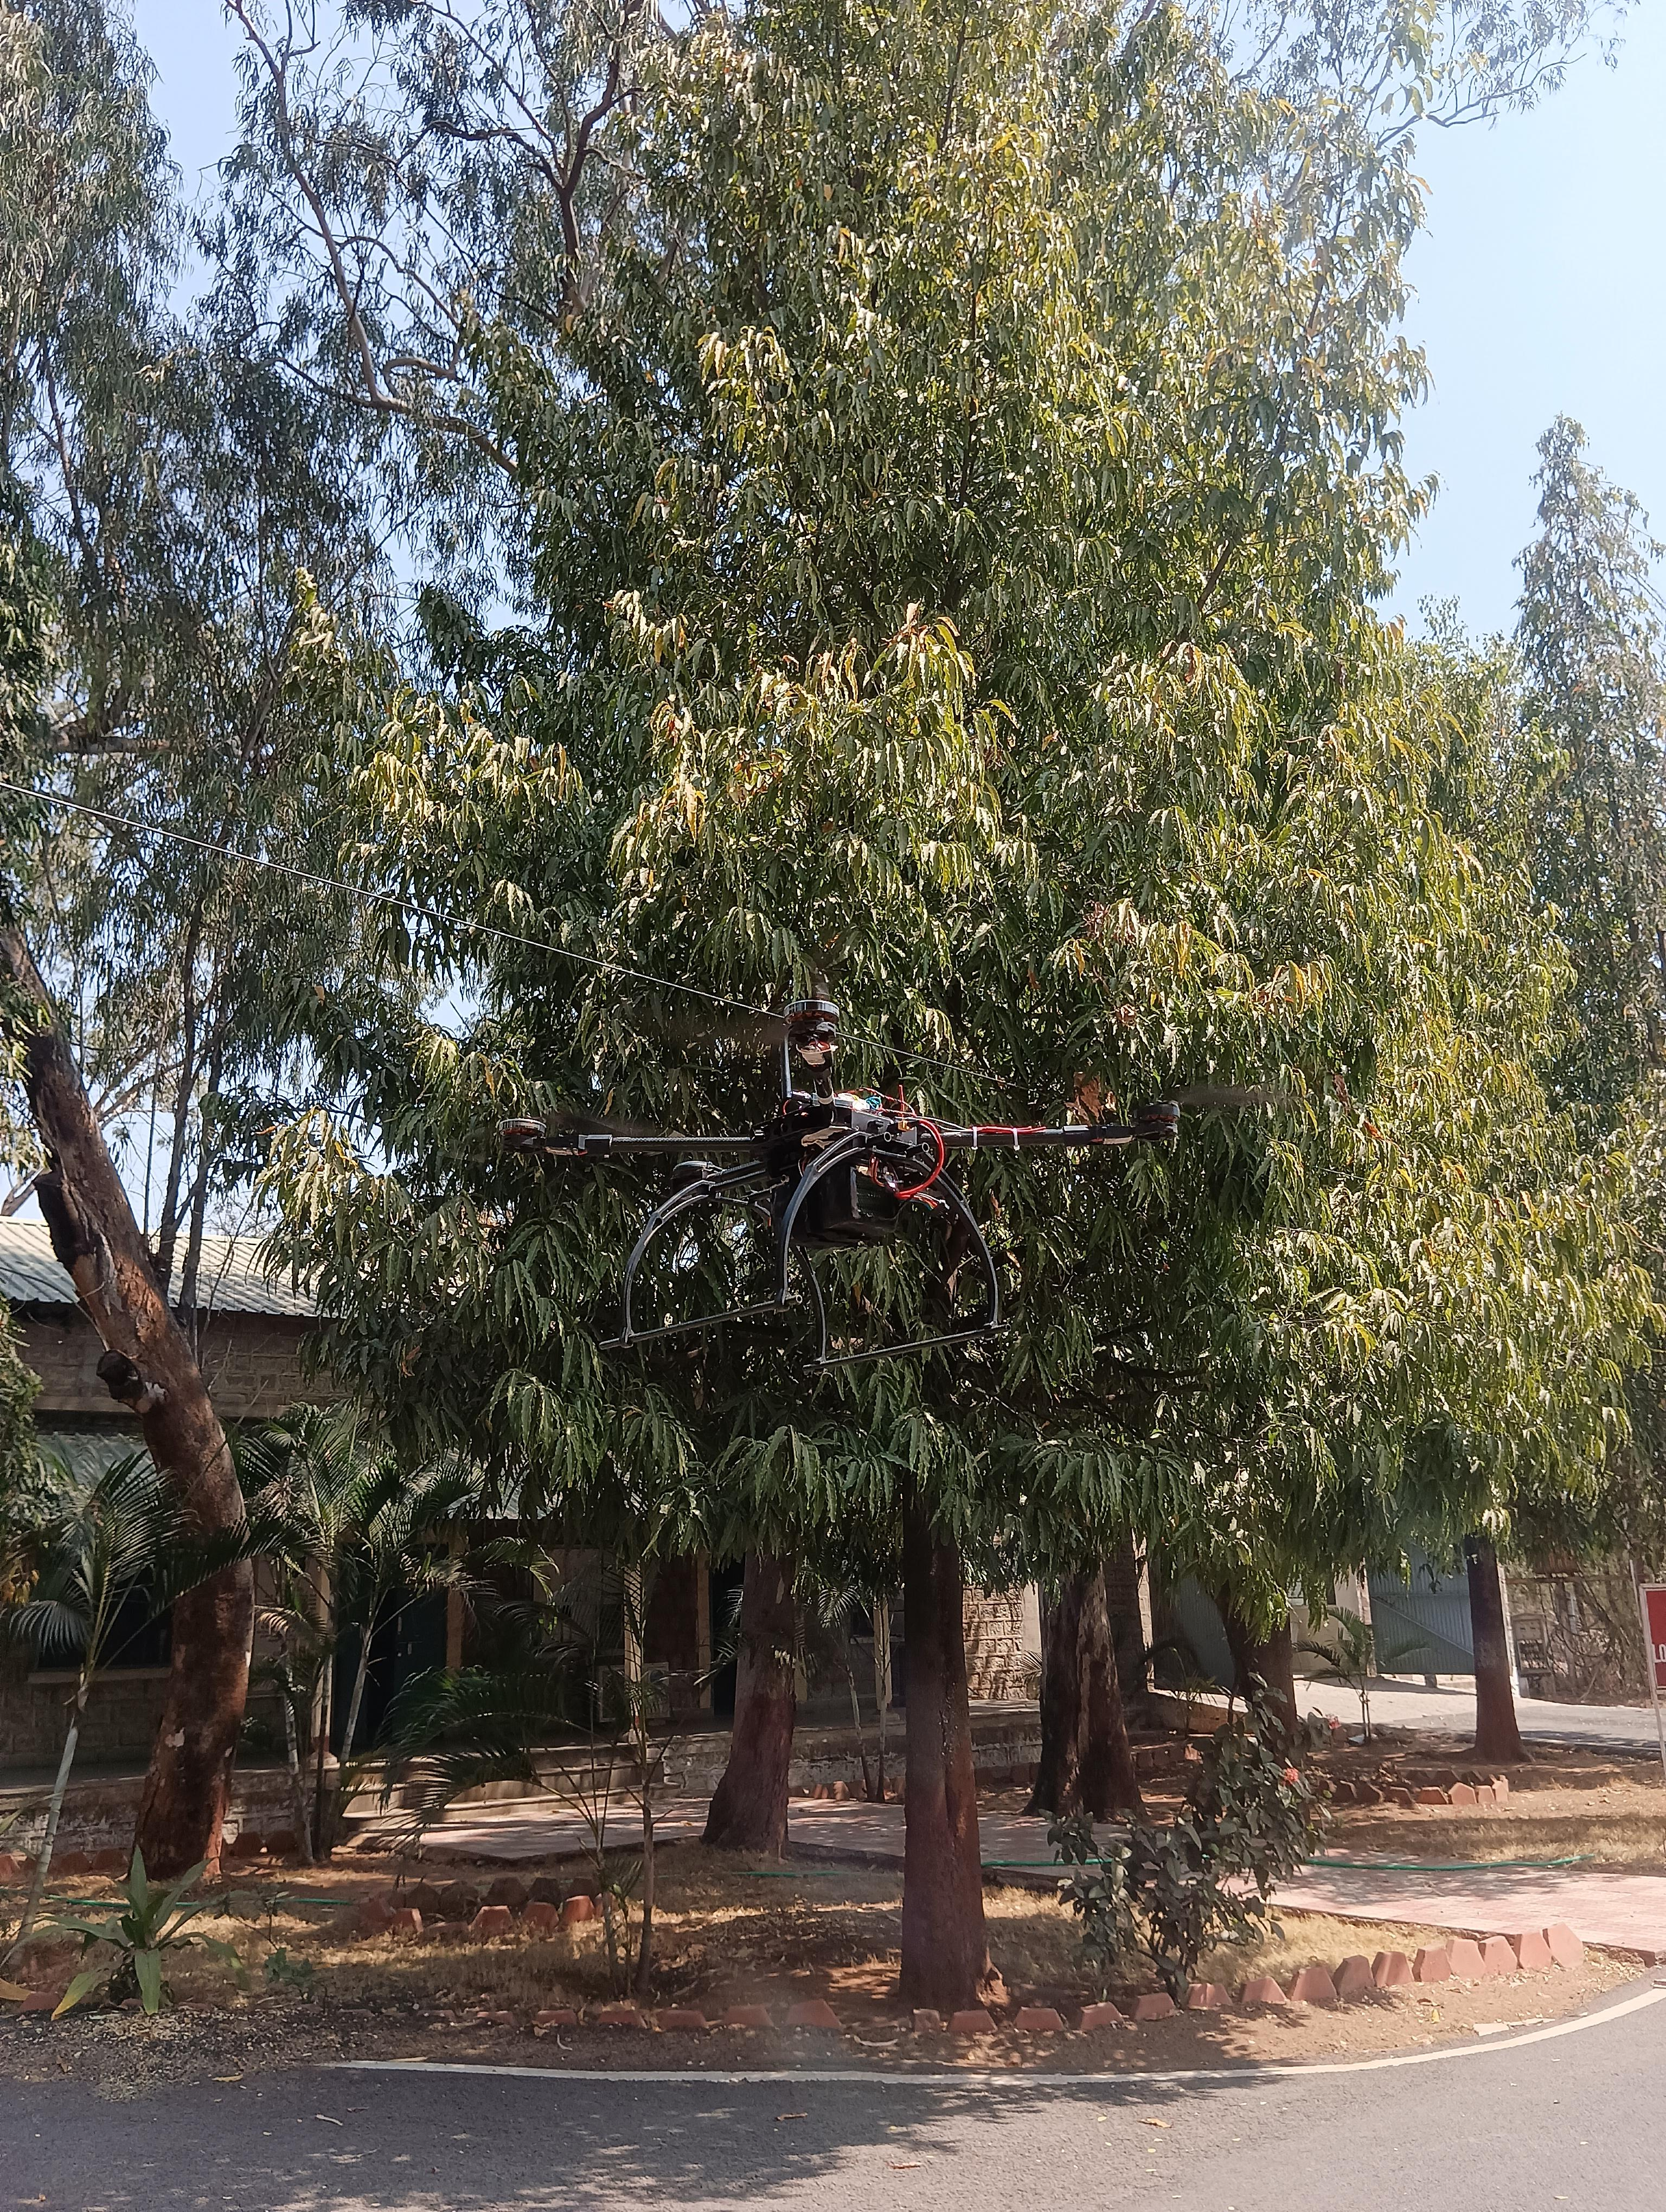drone: (483, 880, 1267, 1374)
